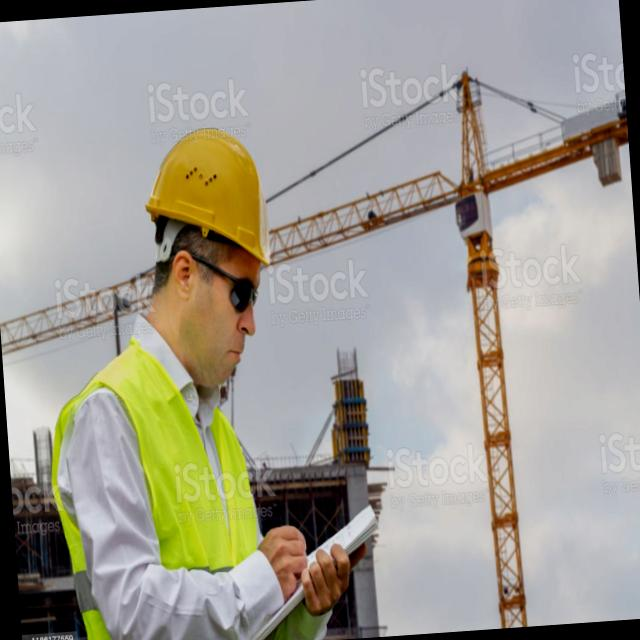goggles: (186, 240, 264, 325)
helmet: (130, 110, 285, 284)
vest: (25, 306, 344, 640)
